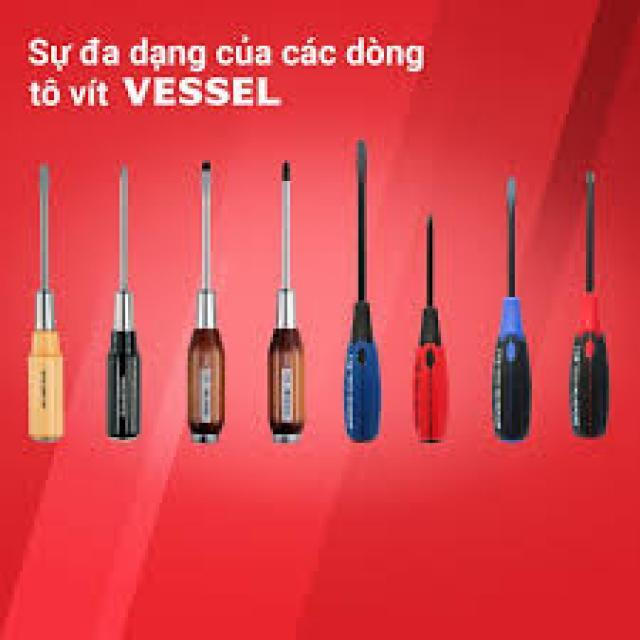screwdriver: (484, 174, 540, 446), (180, 156, 230, 450), (564, 162, 616, 442), (338, 136, 384, 447), (262, 157, 310, 449), (20, 160, 68, 449), (100, 163, 146, 446), (404, 210, 458, 447)
